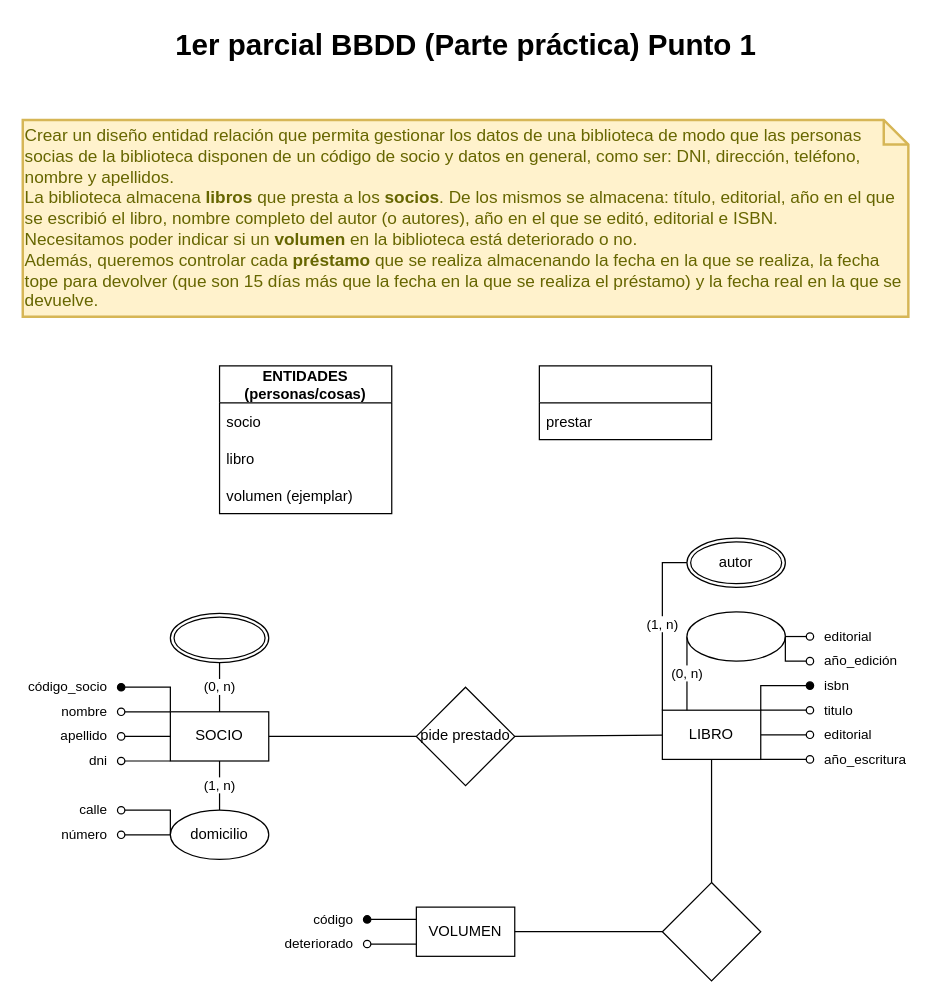
The diagram is 930 pixels wide and 1002 high, and some of its shapes have lost their labels. Here are the shapes that lost their labels. From the top down, the box of each, then its label:
(538, 365, 712, 440): RELACIONES (acciones/verbos)
(169, 612, 269, 663): teléfono
(686, 611, 785, 661): edición
(661, 881, 761, 981): ejemplar
